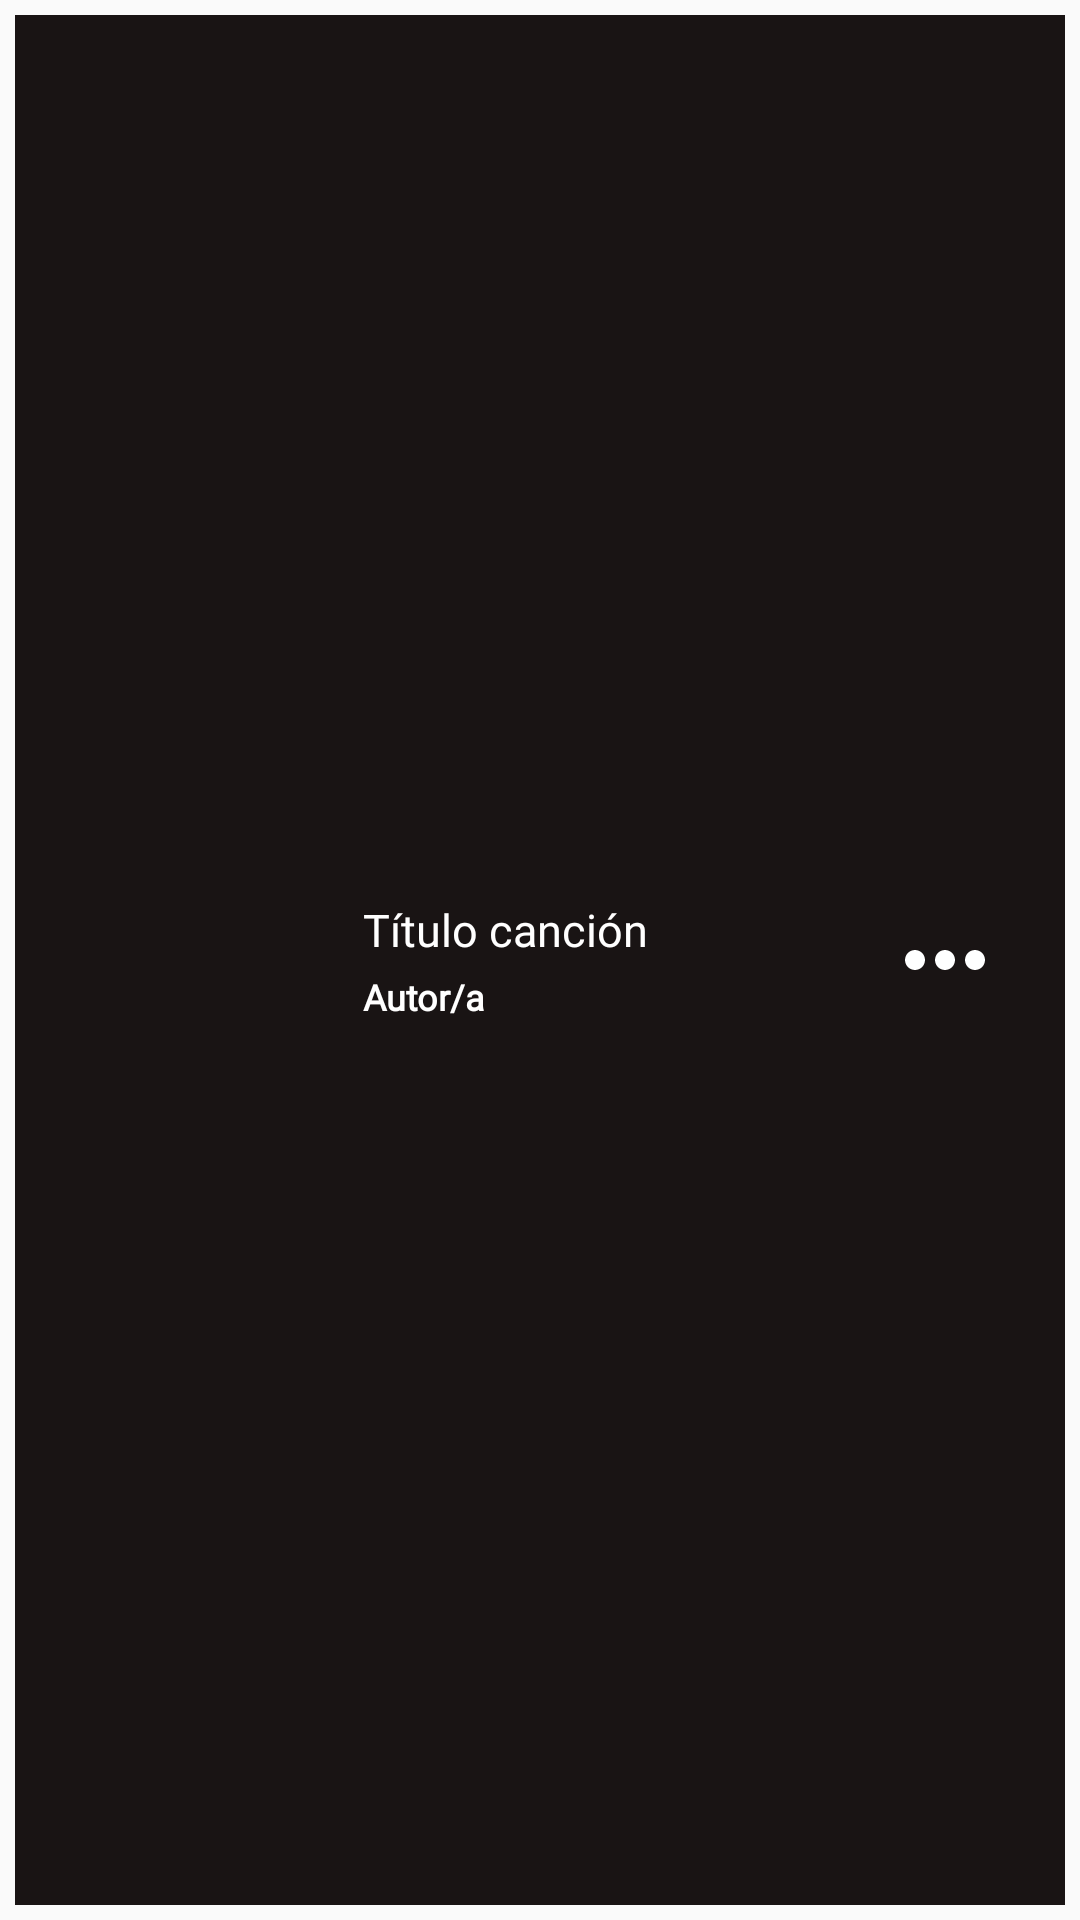

Where icons sit on this 1080w x 1920h app screen, as (x1, y1, x2, y2):
three dots horizontal: (905, 950, 985, 970)
